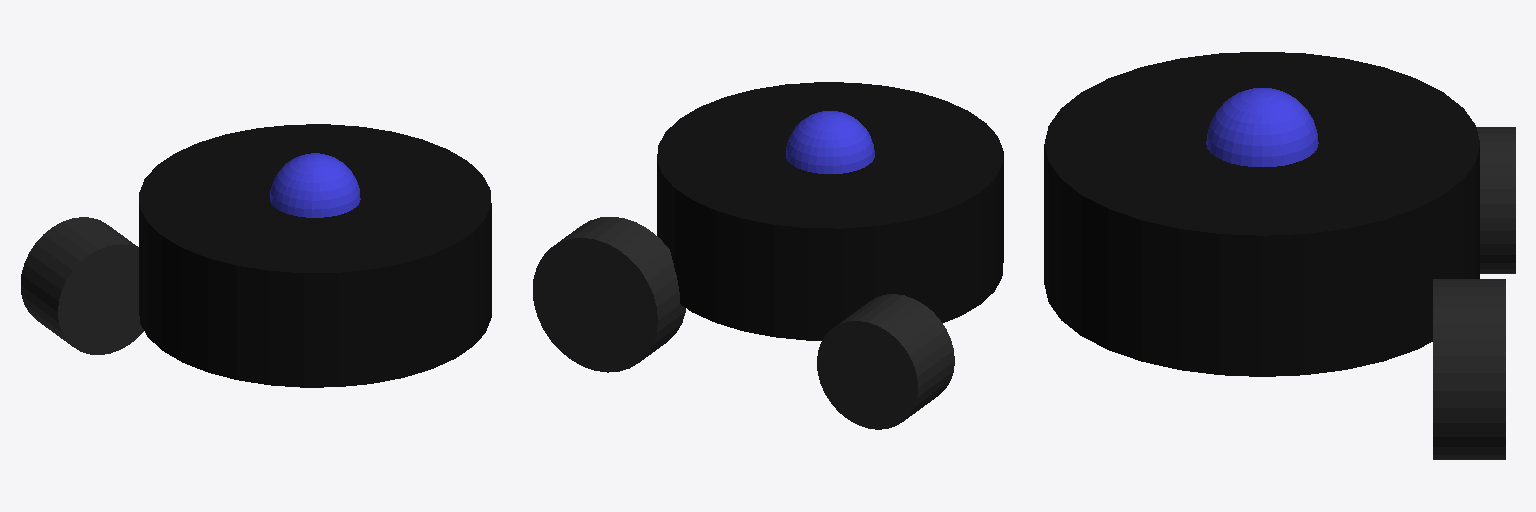
robot.urdf — evolved_robot:
<?xml version="1.0"?>
<robot name="evolved_robot">
  <material name="metal">
    <color rgba="0.7 0.7 0.7 1.0"/>
  </material>
  <material name="plastic">
    <color rgba="0.3 0.3 0.9 1.0"/>
  </material>
  <material name="rubber">
    <color rgba="0.1 0.1 0.1 1.0"/>
  </material>
  <material name="red">
    <color rgba="1.0 0.0 0.0 1.0"/>
  </material>
  <material name="wheel_material">
    <color rgba="0.2 0.2 0.2 1.0"/>
  </material>
  <link name="base_link">
    <visual>
      <geometry><cylinder radius="0.15109311936477673" length="0.108055278192208"/></geometry>
      <material name="rubber"/>
    </visual>
    <collision>
      <geometry><cylinder radius="0.15109311936477673" length="0.108055278192208"/></geometry>
    </collision>
    <inertial>
      <mass value="5.0"/>
      <inertia ixx="0.06680277941944289" ixy="0" ixz="0" 
               iyy="0.06680277941944289" iyz="0" 
               izz="0.11414565359689335"/>
    </inertial>
  </link>
  <link name="link1">
    <visual>
      <geometry><sphere radius="0.038968192844657516"/></geometry>
      <material name="plastic"/>
    </visual>
    <collision>
      <geometry><sphere radius="0.038968192844657516"/></geometry>
    </collision>
    <inertial>
      <mass value="0.5"/>
      <inertia ixx="0.0006074080214313669" ixy="0" ixz="0" 
               iyy="0.0006074080214313669" iyz="0" 
               izz="0.0006074080214313669"/>
    </inertial>
  </link>
  <joint name="joint1" type="revolute">
    <parent link="base_link"/>
    <child link="link1"/>
    <origin xyz="0 0 0.054027639096104" rpy="0 0 0"/>
    <axis xyz="-0.6298779752360868 -0.6996359991374573 -0.3372880149418586"/>
    <dynamics damping="0.7760705911468168" friction="0.1"/>
    <limit lower="-2.1752062674860655" upper="1.4084694643140252" effort="100" velocity="100"/>
  </joint>
  <link name="link2">
    <visual>
      <geometry>
        <cylinder radius="0.06307269185920472" length="0.050641112719466294"/>
      </geometry>
      <material name="wheel_material"/>
    </visual>
    <collision>
      <geometry>
        <cylinder radius="0.06307269185920472" length="0.050641112719466294"/>
      </geometry>
    </collision>
    <inertial>
      <mass value="1.0"/>
      <inertia ixx="0.0012082513060470217" ixy="0" ixz="0" 
               iyy="0.0012082513060470217" iyz="0" 
               izz="0.001989082229183095"/>
    </inertial>
  </link>
  <joint name="joint2" type="continuous">
    <parent link="base_link"/>
    <child link="link2"/>
    <origin xyz="0.13871674908692813 0.14346948964262535 -0.054027639096104" rpy="1.5708 0 0"/>
    <axis xyz="0 1 0"/>
    <dynamics damping="0.8641071446101862" friction="0.1"/>
  </joint>
  <link name="link3">
    <visual>
      <geometry>
        <cylinder radius="0.05097653602202047" length="0.06395966676517956"/>
      </geometry>
      <material name="wheel_material"/>
    </visual>
    <collision>
      <geometry>
        <cylinder radius="0.05097653602202047" length="0.06395966676517956"/>
      </geometry>
    </collision>
    <inertial>
      <mass value="1.0"/>
      <inertia ixx="0.0009905550539271554" ixy="0" ixz="0" 
               iyy="0.0009905550539271554" iyz="0" 
               izz="0.0012993036124021753"/>
    </inertial>
  </link>
  <joint name="joint3" type="floating">
    <parent link="base_link"/>
    <child link="link3"/>
    <origin xyz="-0.13871674908692813 0.14346948964262535 -0.054027639096104" rpy="1.5708 0 0"/>
    <axis xyz="0 1 0"/>
    <dynamics damping="0.8229468850519025" friction="0.1"/>
  </joint>
</robot>

--- Render facts (derived) ---
3 views of the same robot in one strip: view 1: azimuth 30°, elevation 25°; view 2: azimuth 150°, elevation 25°; view 3: azimuth 270°, elevation 25° (orthographic).
Robot: evolved_robot — 4 links, 3 joints (1 revolute, 1 continuous, 1 floating); root link base_link; default pose: every joint at zero.
Visible links, largest first — view 1: base_link, link3, link1; view 2: base_link, link2, link3, link1; view 3: base_link, link2, link1, link3.
Boxes of the visible links, left/top/right/bottom form: base_link: left=139, top=124, right=491, bottom=387; link3: left=21, top=217, right=143, bottom=354; link1: left=270, top=153, right=360, bottom=217; base_link: left=657, top=82, right=1003, bottom=340; link2: left=533, top=217, right=685, bottom=372; link3: left=817, top=294, right=954, bottom=429; link1: left=786, top=111, right=874, bottom=173; base_link: left=1044, top=52, right=1479, bottom=376; link2: left=1433, top=279, right=1505, bottom=459; link1: left=1206, top=88, right=1318, bottom=166; link3: left=1477, top=127, right=1515, bottom=273.
Bounding box of the posed robot: 0.3915 × 0.3265 × 0.2101 m (x, y, z).
Geometry: primitives only (box / cylinder / sphere), no mesh files.